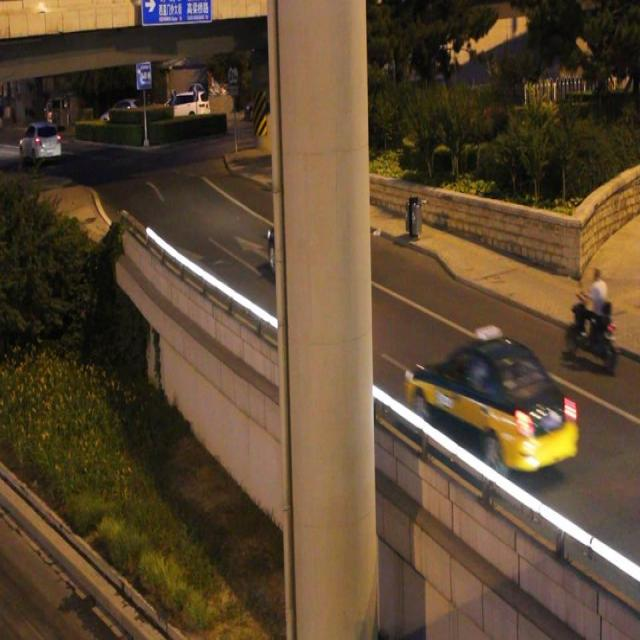car: (404, 324, 578, 475), (267, 199, 354, 288)
